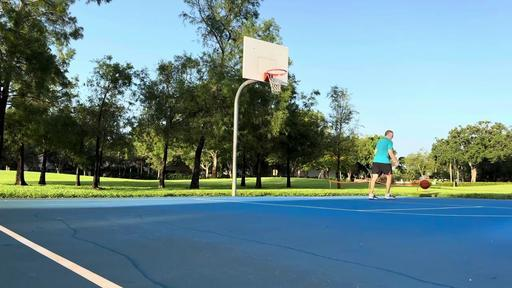ball: (420, 180, 430, 189)
human: (368, 130, 400, 200)
rim: (266, 68, 287, 94)
